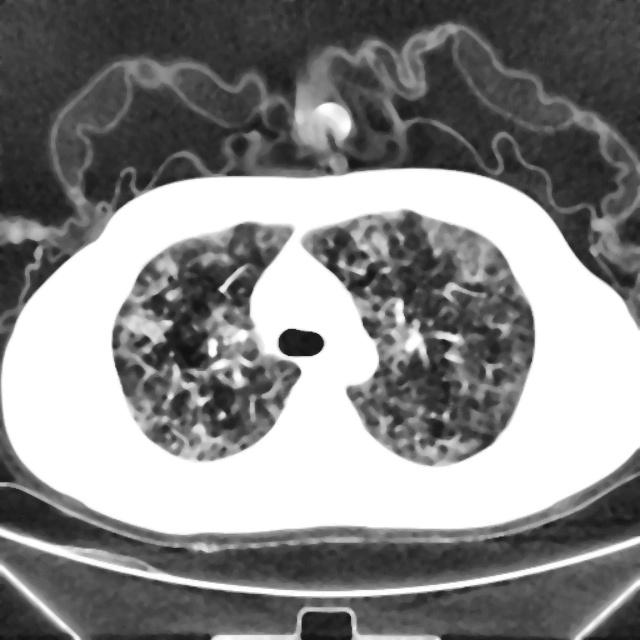covid: (2, 166, 638, 548)
